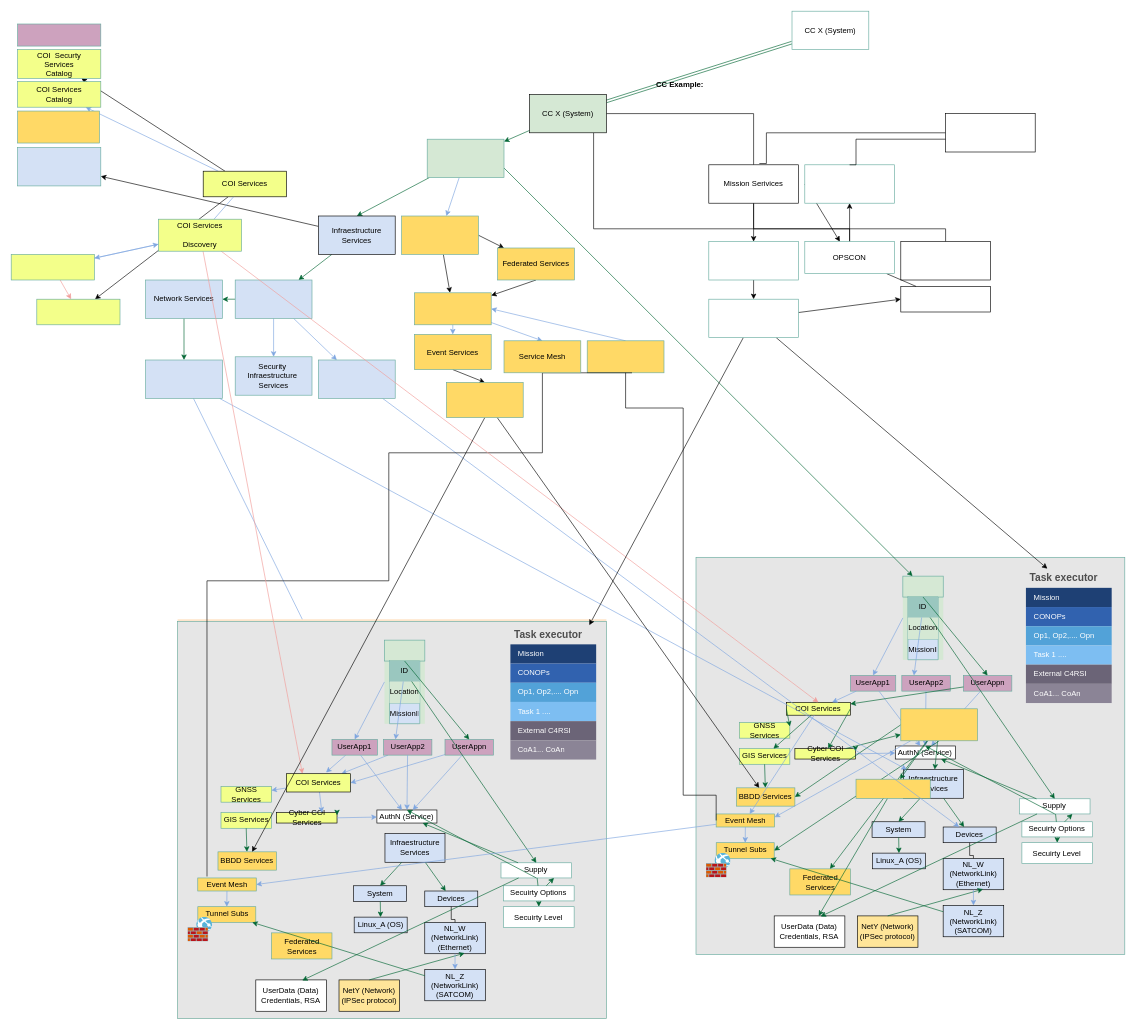
The diagram is 1136 pixels wide and 1030 high, and some of its shapes have lost their labels. Each missing label, with the centre of its shape:
Aircraff1: [404,650]
Aircraff2: [922,586]
Battel Management System: [753,260]
C2I System: [753,318]
CaaS Services: [465,158]
COI Securty Services Published: [78,312]
COI Services Published: [52,267]
COP (Data) Comms, AES: [945,299]
Crypto Services: [892,788]
CyberPersona: [849,183]
Data Sync: [484,400]
FMN NATO Node (Service): [990,132]
Infraestructure CNF/VNF Orchestator: [356,378]
Infraestructure Orchestator: [273,298]
Infraestructure Services Catalog: [59,166]
Legacy Radio Systems: [945,260]
Ochestator Platform: [452,308]
Platform Services: [439,234]
Platform Services Catalog: [58,126]
PlatformServices: [939,724]
Service Discovery: [625,356]
SNDs: [183,378]
UserApp Catalog: [59,34]
